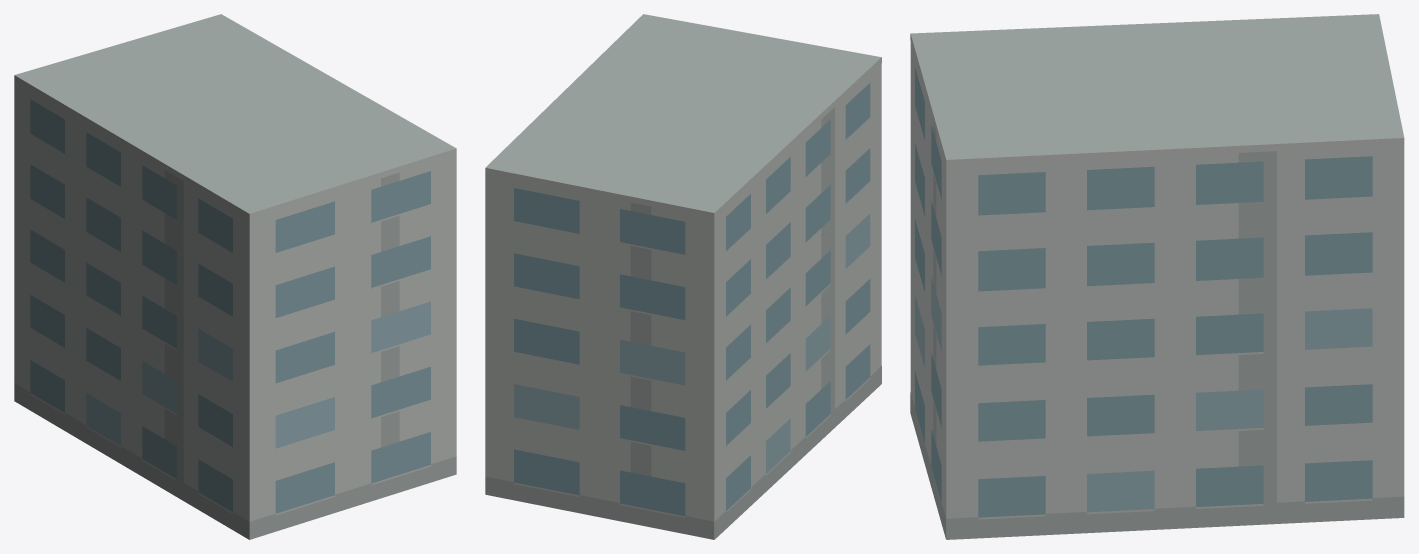
File: survey-upis-32886602.glb
3 views of the same model, side by side, from view 1: azimuth 30°, elevation 25°; view 2: azimuth 150°, elevation 25°; view 3: azimuth 270°, elevation 25° (orthographic). The views are drawn at different scales.
Visible parts, largest first — view 1: survey-upis-32886602.tmp; view 2: survey-upis-32886602.tmp; view 3: survey-upis-32886602.tmp.
Part boxes in pixels (bbox=[...]): survey-upis-32886602.tmp: bbox=[14, 14, 456, 539]; survey-upis-32886602.tmp: bbox=[485, 14, 881, 539]; survey-upis-32886602.tmp: bbox=[910, 14, 1404, 539].
Size of the model in its own units: 10.8 by 13.1 by 15.44.
